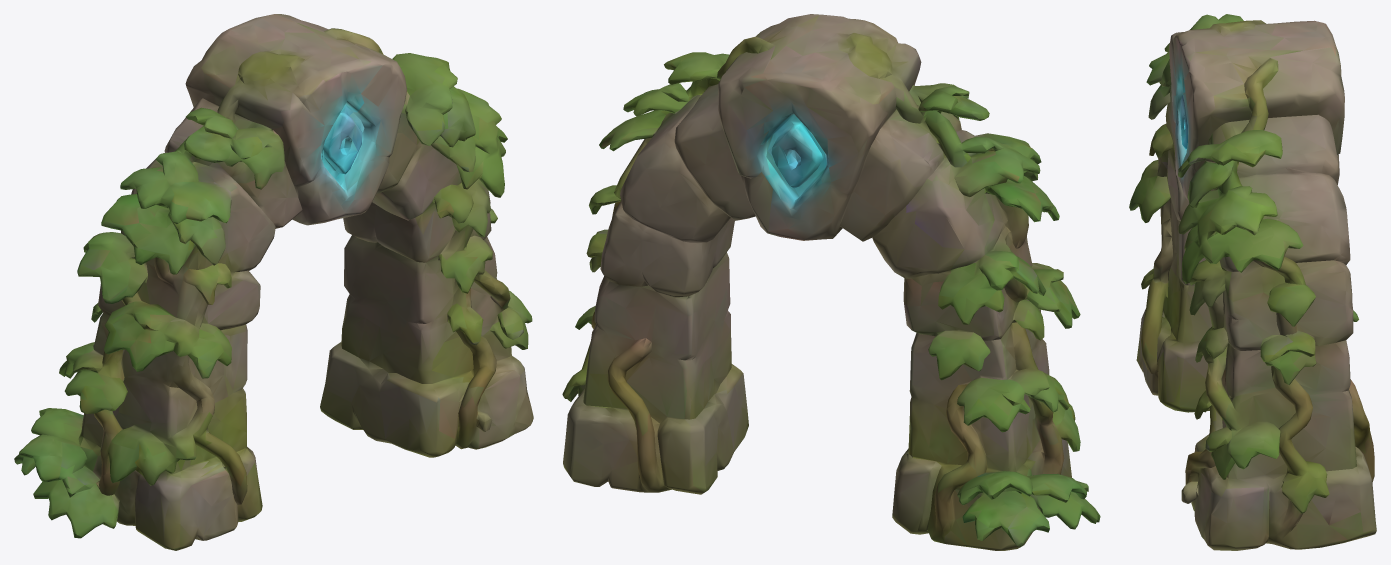
The model's file is arco_puerta.glb.
3 renders of one model, left to right at view 1: azimuth 30°, elevation 25°; view 2: azimuth 150°, elevation 25°; view 3: azimuth 270°, elevation 25°, orthographic. The views are drawn at different scales.
Parts seen in each view (by area): view 1: arco_puerta_malla; view 2: arco_puerta_malla; view 3: arco_puerta_malla.
Boxes of the visible parts, <box> form: arco_puerta_malla: <box>14,14,533,550</box>; arco_puerta_malla: <box>562,14,1100,550</box>; arco_puerta_malla: <box>1129,14,1376,550</box>.
Bounding box in the file's own units: 0.2811 × 0.2344 × 0.1255.
Materials: 1 (1 with a texture image).
